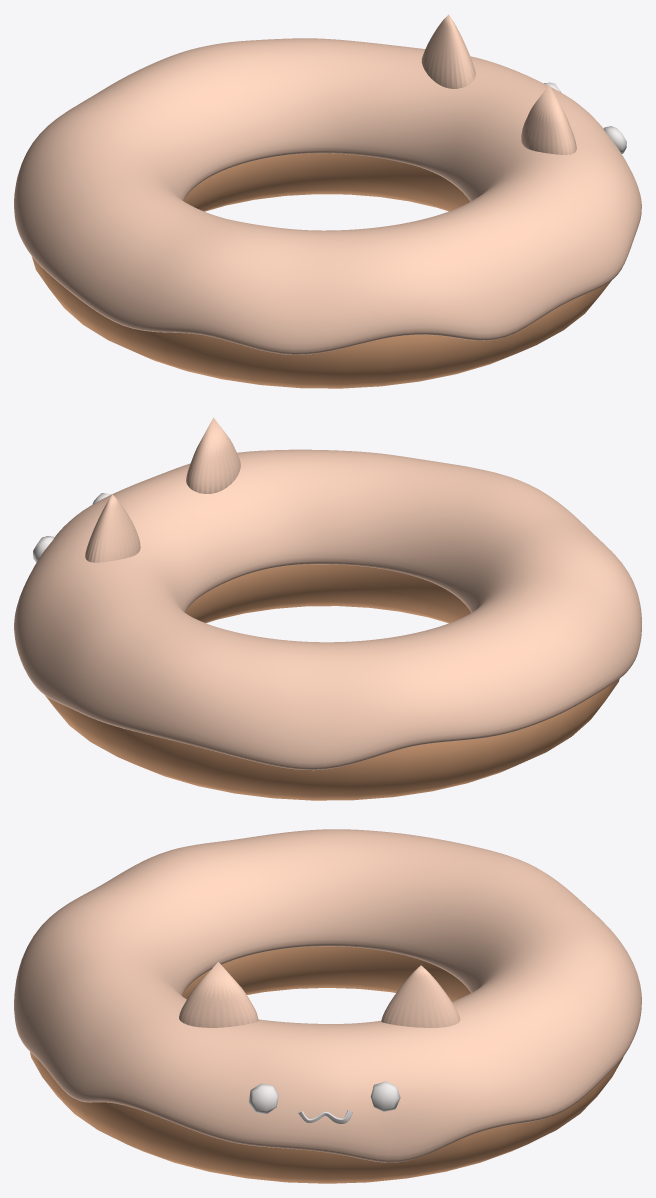
The model's file is pale.fbx.
3 renders of one model, top to bottom at view 1: azimuth 30°, elevation 25°; view 2: azimuth 150°, elevation 25°; view 3: azimuth 270°, elevation 25°, orthographic.
Visible parts, largest first — view 1: Torus.001, Torus.003, Cone.001, Cone; view 2: Torus.001, Torus.003, Cone, Cone.001; view 3: Torus.001, Torus.003, Cone, Cone.001, Cube, Cube.001.
Boxes of the visible parts, left/top/right/bottom form: Torus.001: left=14, top=38, right=641, bottom=354; Torus.003: left=31, top=153, right=611, bottom=388; Cone.001: left=421, top=14, right=475, bottom=88; Cone: left=521, top=85, right=576, bottom=154; Torus.001: left=14, top=449, right=641, bottom=770; Torus.003: left=45, top=564, right=619, bottom=800; Cone: left=186, top=417, right=240, bottom=493; Cone.001: left=85, top=494, right=140, bottom=562; Torus.001: left=14, top=829, right=641, bottom=1162; Torus.003: left=30, top=946, right=623, bottom=1183; Cone: left=179, top=962, right=258, bottom=1027; Cone.001: left=381, top=965, right=460, bottom=1027; Cube: left=249, top=1083, right=278, bottom=1113; Cube.001: left=370, top=1081, right=400, bottom=1111.
Size of the model in its own units: 565 by 198 by 563.
